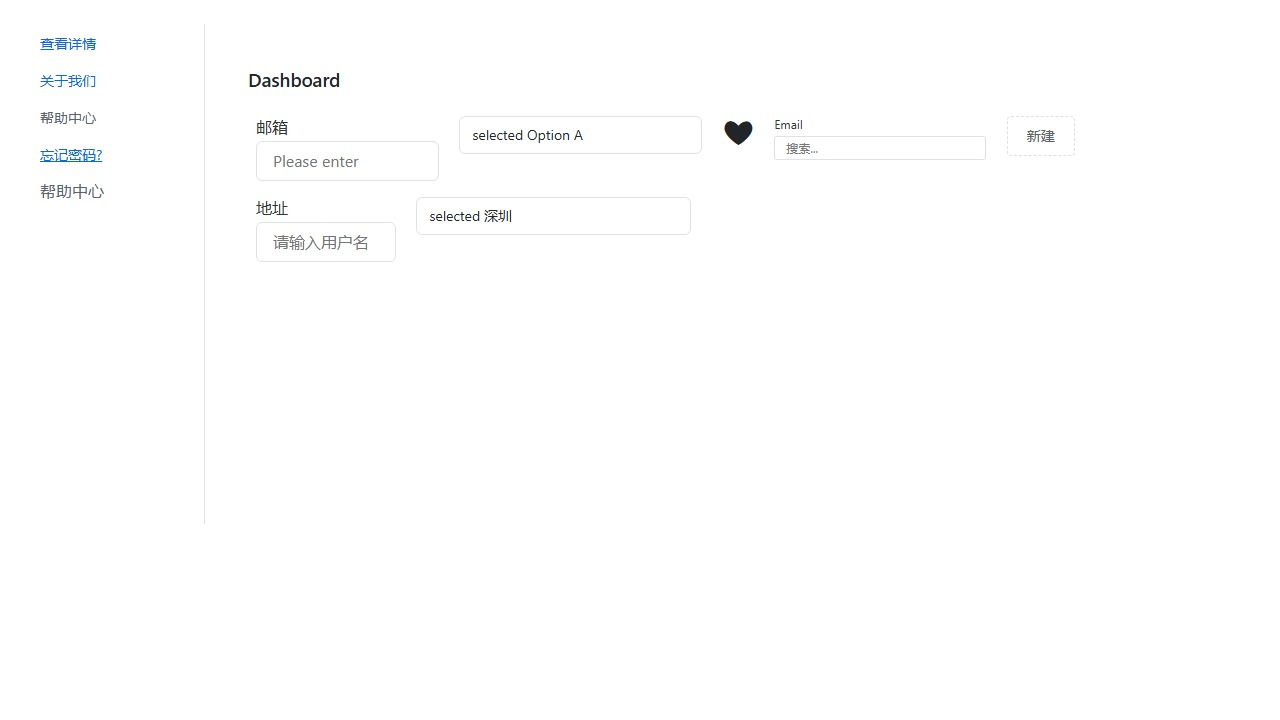button: (1007, 116, 1075, 156)
icon: (723, 116, 754, 148)
input: (256, 141, 439, 181), (256, 222, 396, 262), (774, 136, 986, 160)
link: (40, 180, 104, 201), (40, 145, 102, 164), (40, 34, 96, 53), (40, 71, 96, 90), (40, 108, 96, 127)
select: (416, 197, 691, 235), (459, 116, 702, 154)
